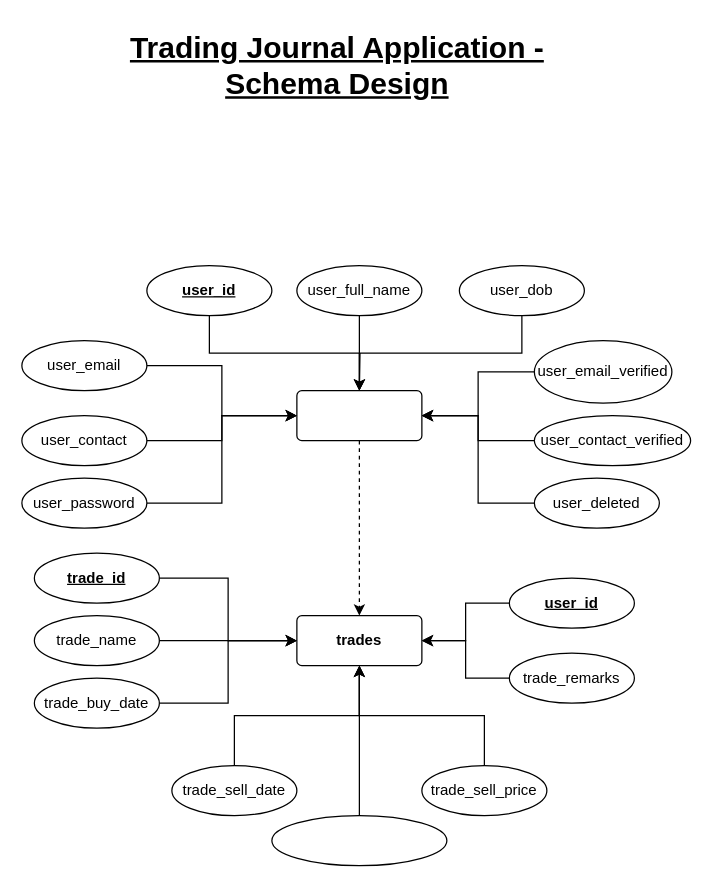
Some shapes in this 713 by 888 pixel diagram are drawn without their labels. The box of each missing label's shape, as (x1, y1, x2, y2) in pixels:
trade_purchase_price: (271, 814, 447, 866)
users: (296, 389, 422, 441)
